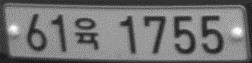1: (115, 13, 139, 55), (47, 12, 70, 53)
5: (200, 13, 224, 55), (172, 15, 196, 53)
6: (25, 12, 47, 52)
7: (142, 14, 167, 55)
육: (72, 15, 100, 52)
